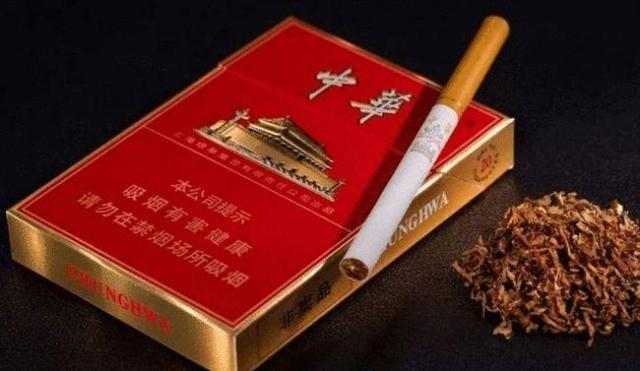Smoking: (340, 15, 510, 283)
